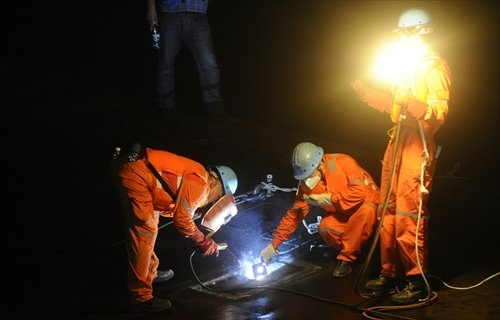blue: (396, 6, 435, 48), (289, 140, 325, 184), (204, 163, 239, 201)
